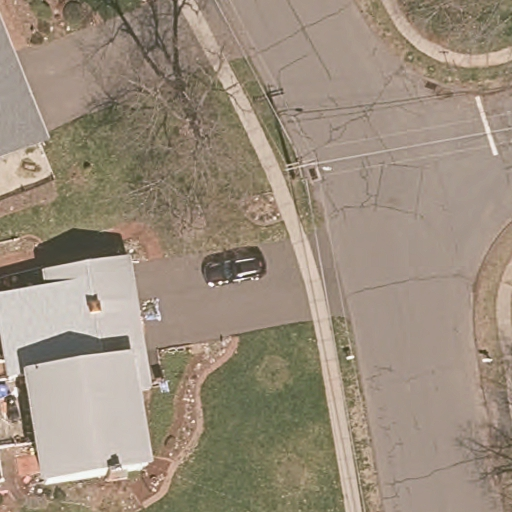DT: (284, 152, 332, 184)
